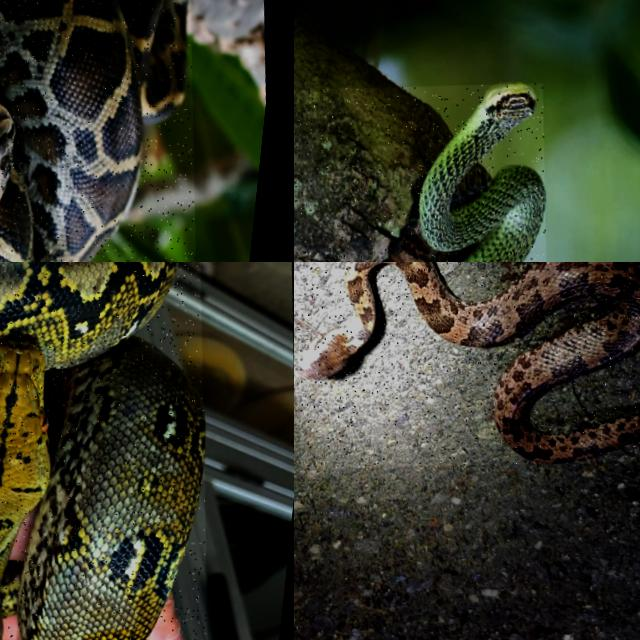Chrysopelea ornata: (419, 83, 545, 261)
Malayopython reticulatus: (0, 262, 204, 639)
Ovophis monticola: (300, 262, 639, 462)
Python bivittatus: (0, 0, 186, 261)
snake: (0, 262, 204, 639), (300, 262, 639, 462), (0, 0, 186, 261), (419, 83, 545, 261)
